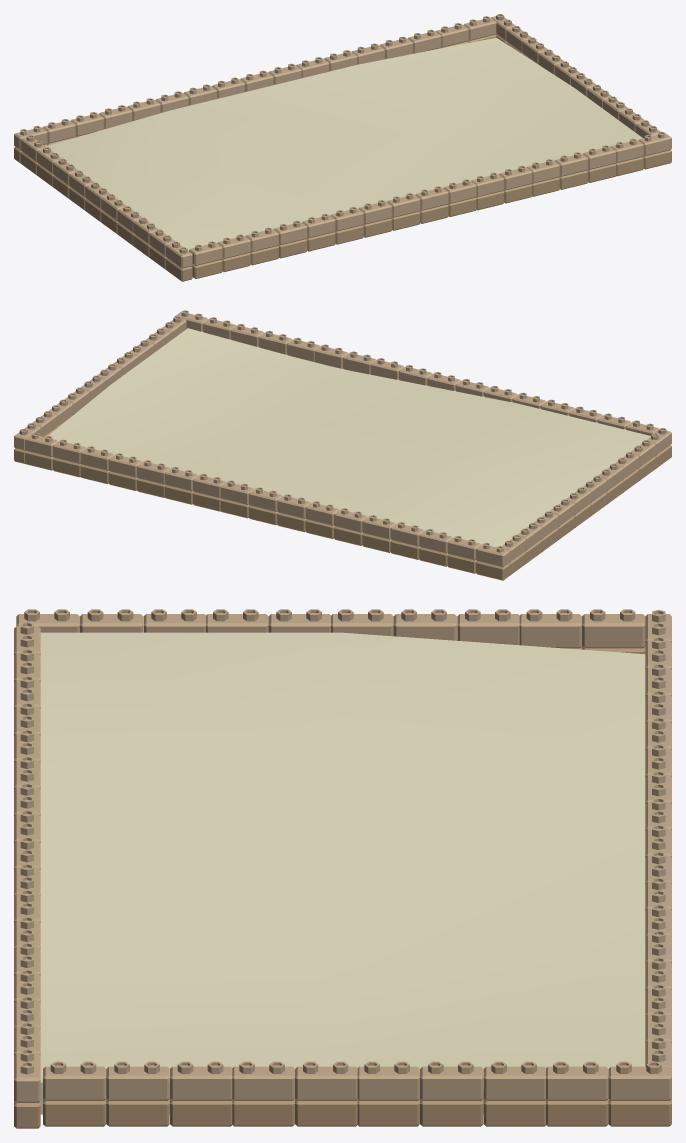
The model's file is sand playgrounnd 1.fbx.
The picture shows the model from 3 angles, top to bottom: view 1: azimuth 30°, elevation 25°; view 2: azimuth 150°, elevation 25°; view 3: azimuth 270°, elevation 25°; orthographic projection. The views are drawn at different scales.
Visible parts, largest first — view 1: polySurface621; view 2: polySurface621; view 3: polySurface621.
Boxes of the visible parts, x1,y1,x2,y2 form: polySurface621: (14, 14, 671, 281); polySurface621: (14, 310, 671, 580); polySurface621: (14, 609, 671, 1128).
Bounding box in the file's own units: 335 × 19.26 × 200.
